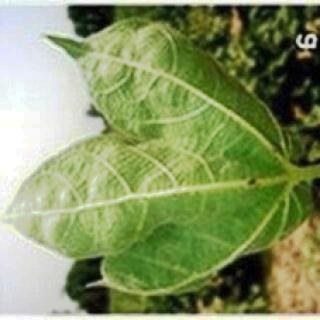curl: (24, 28, 284, 266)
